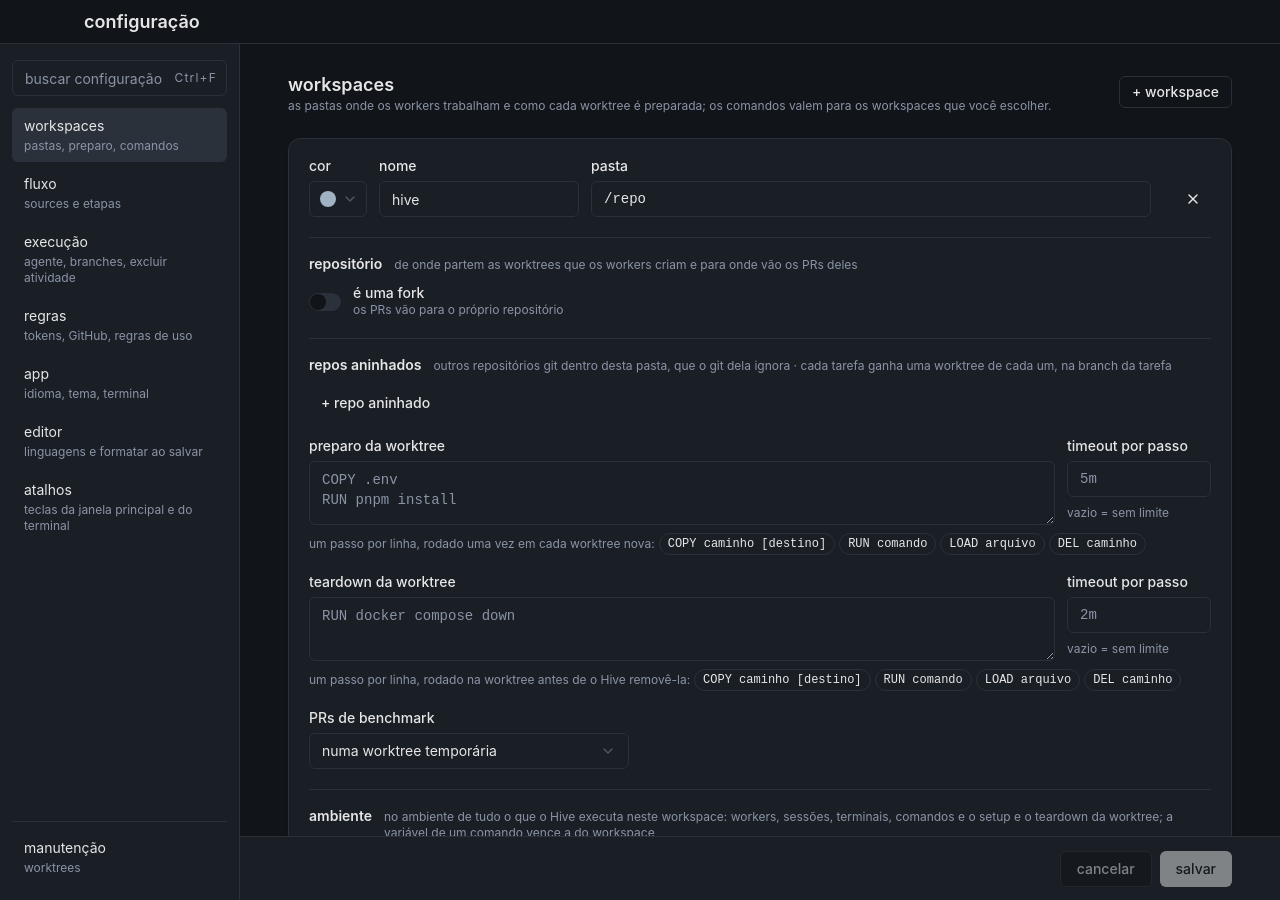
Test case: a bad timeout stops the save on workspaces with its message (#511)
Click the button "fluxo sources e etapas": (120, 193) [12,166,227,220]
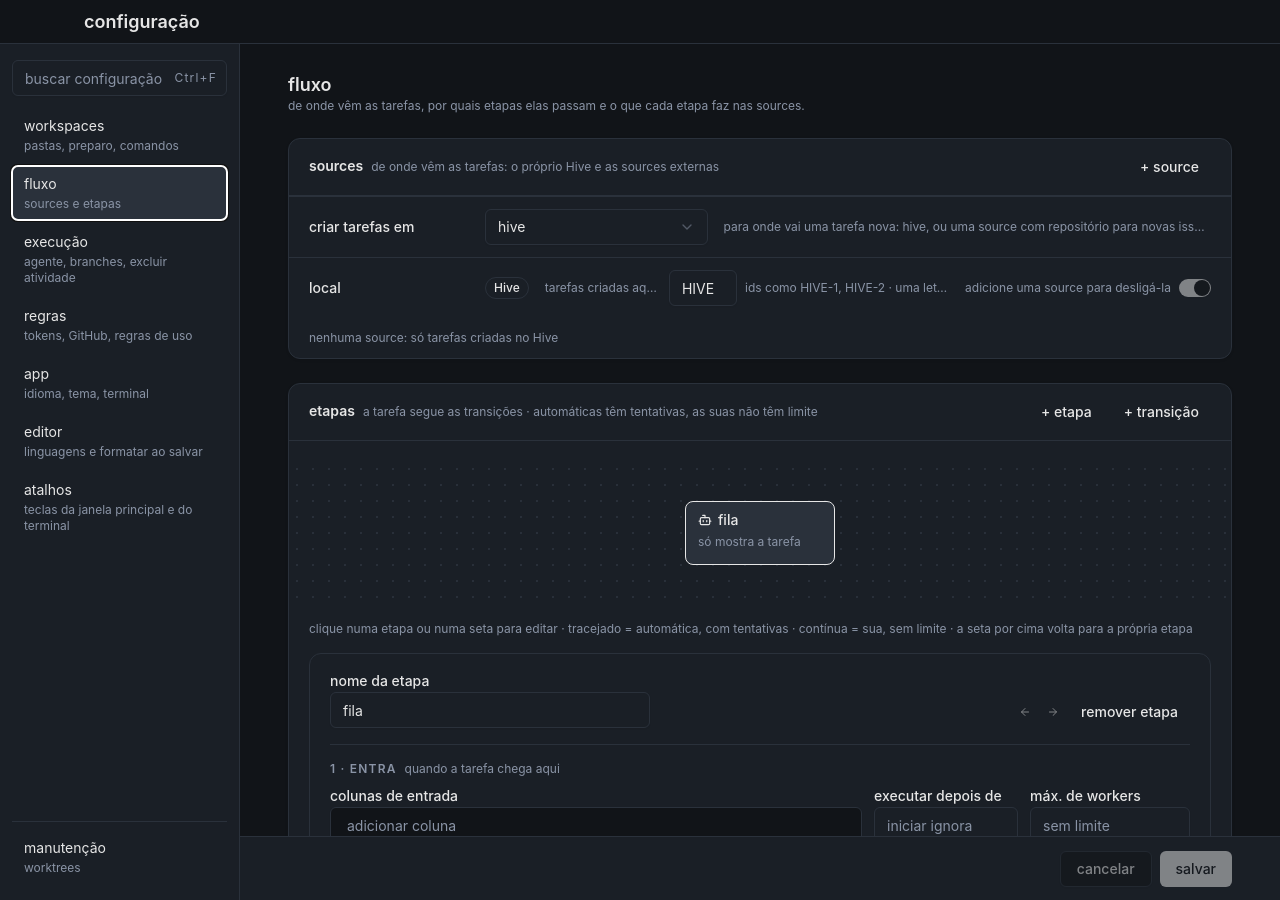
Click the button "workspaces pastas, preparo, comandos": (120, 135) [12,108,227,162]
(page scrolled)
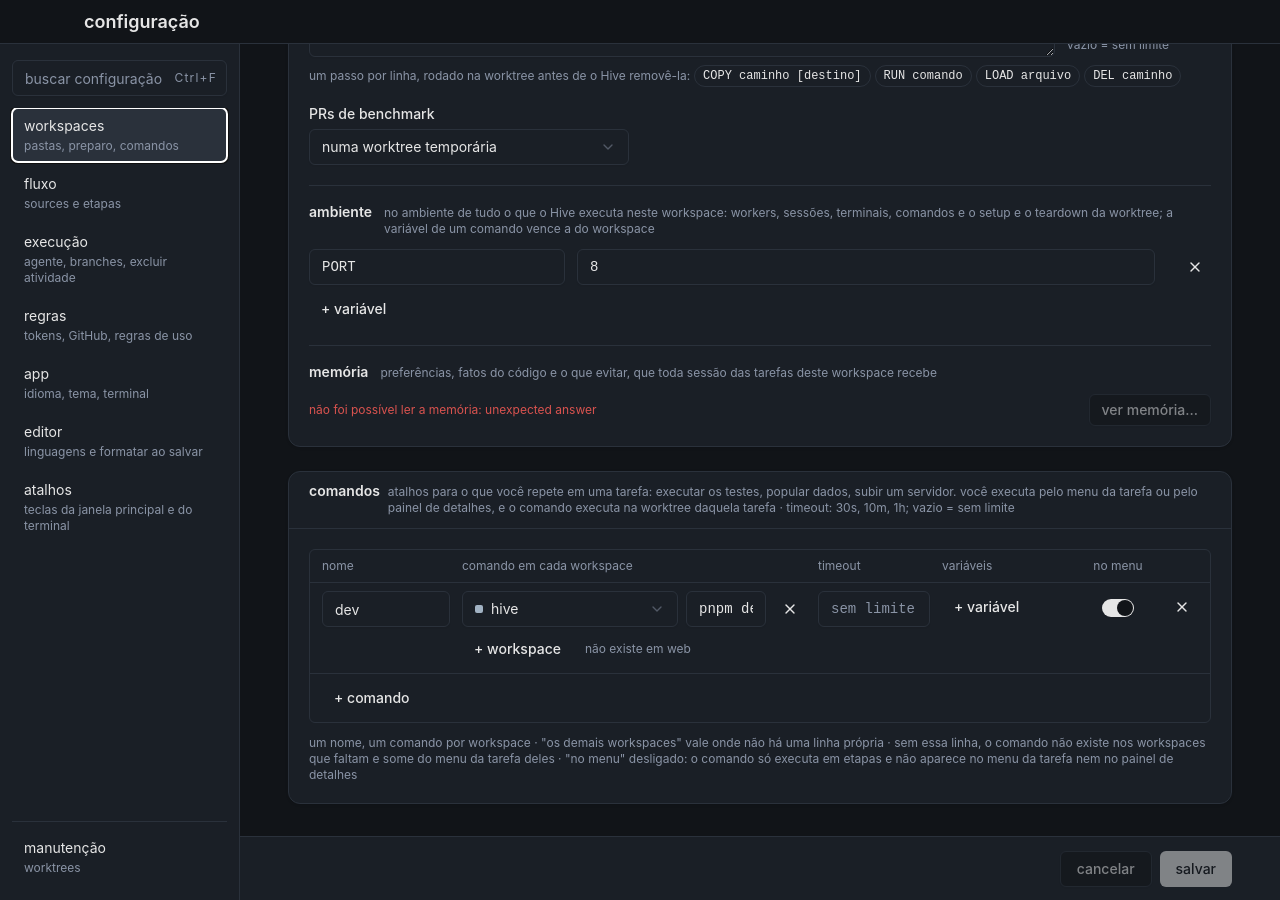
In the field with placeholder "sem limite": (874, 609) [818,591,930,627], type "10"
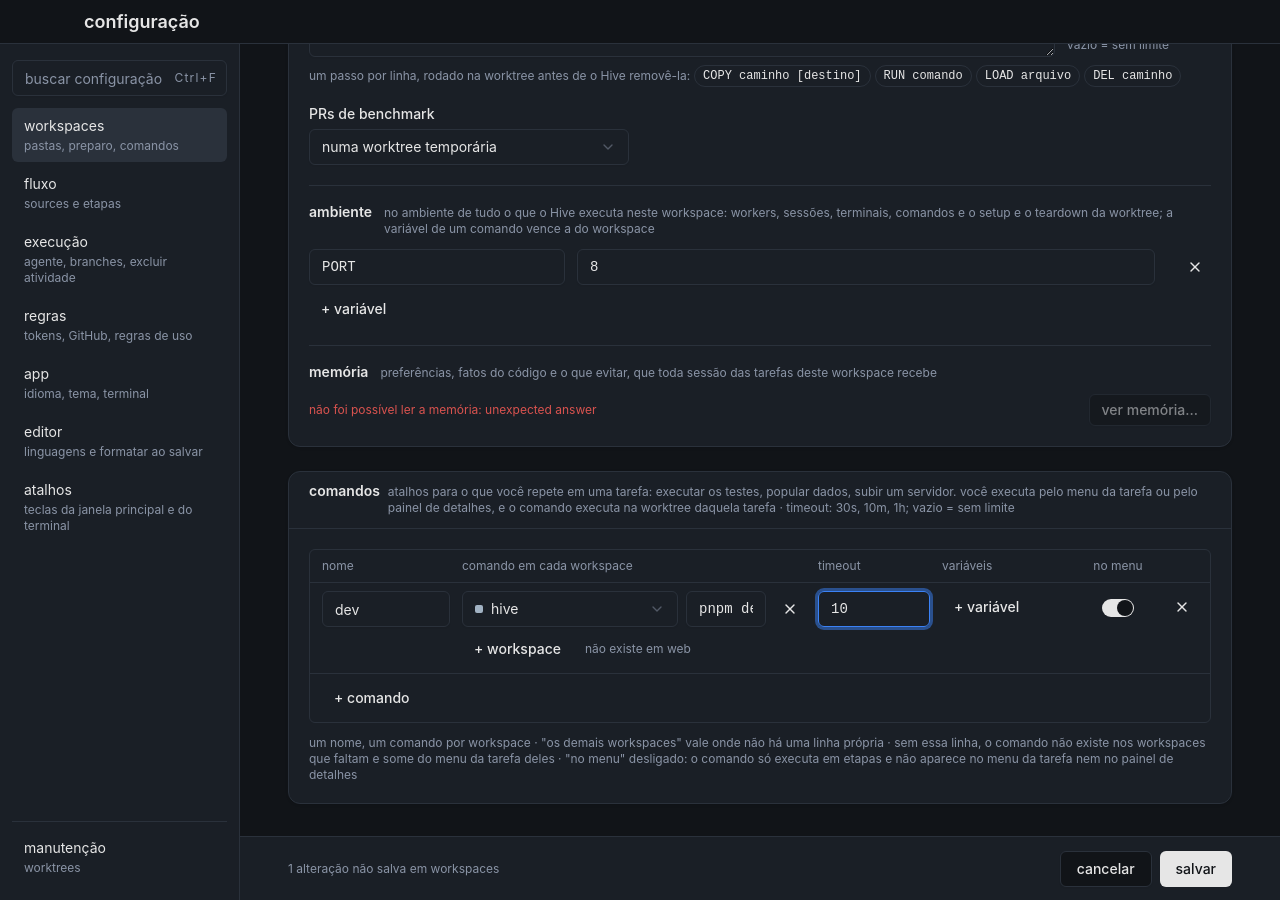
Click the button "fluxo sources e etapas": (120, 193) [12,166,227,220]
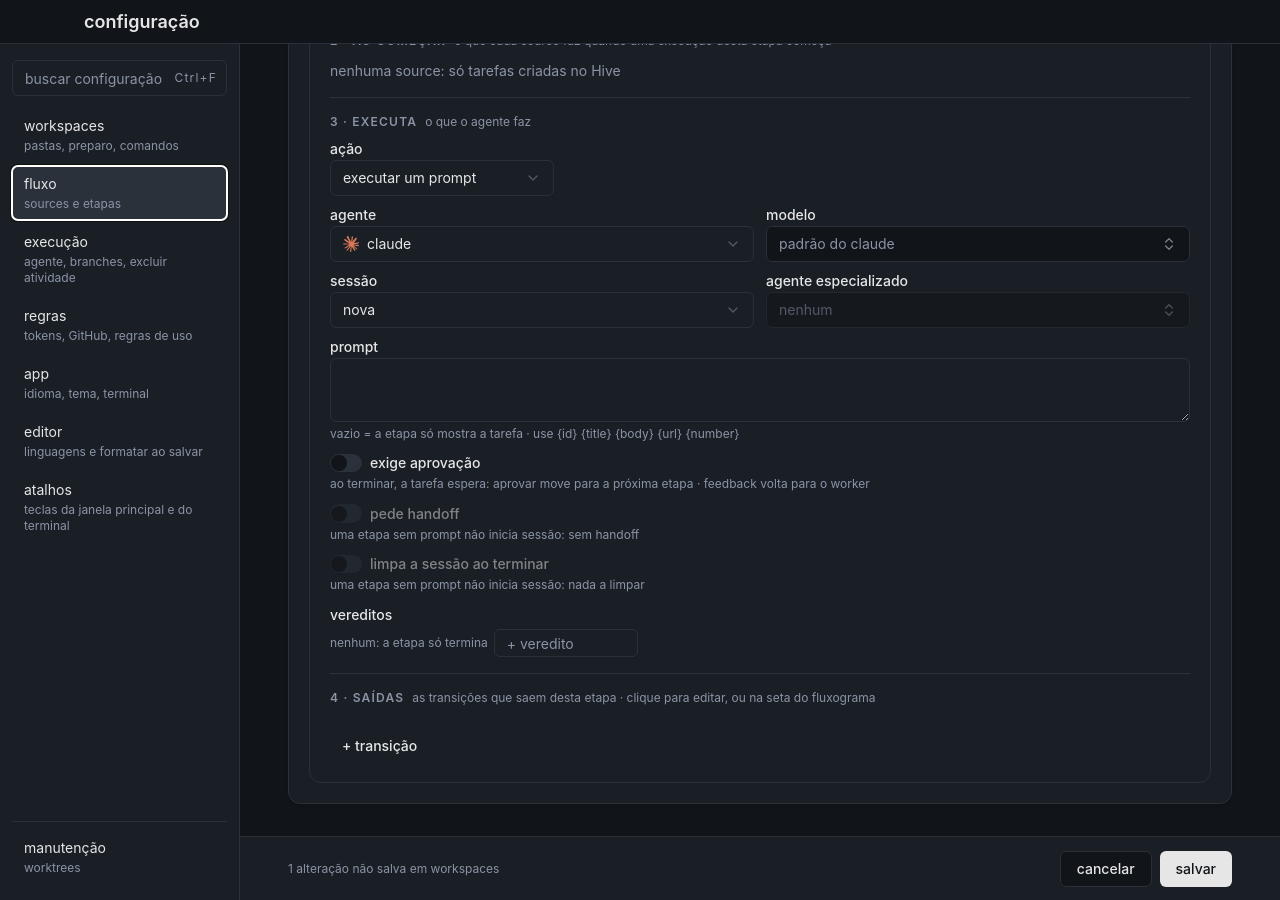
Click the button "salvar": (1196, 868) [1160,850,1232,886]
(page scrolled)
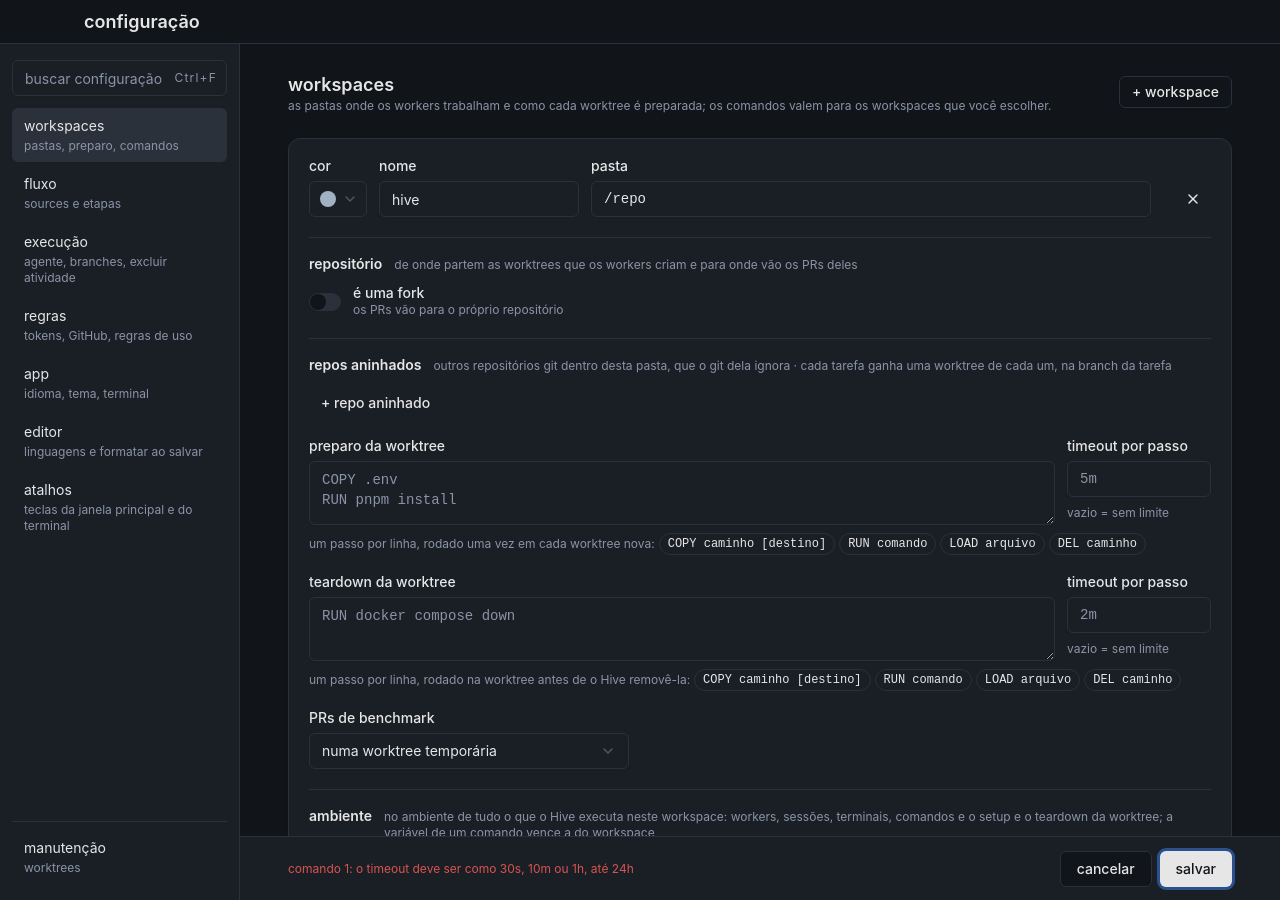
Expected: the heading "workspaces" is shown, [288,74,394,95]
